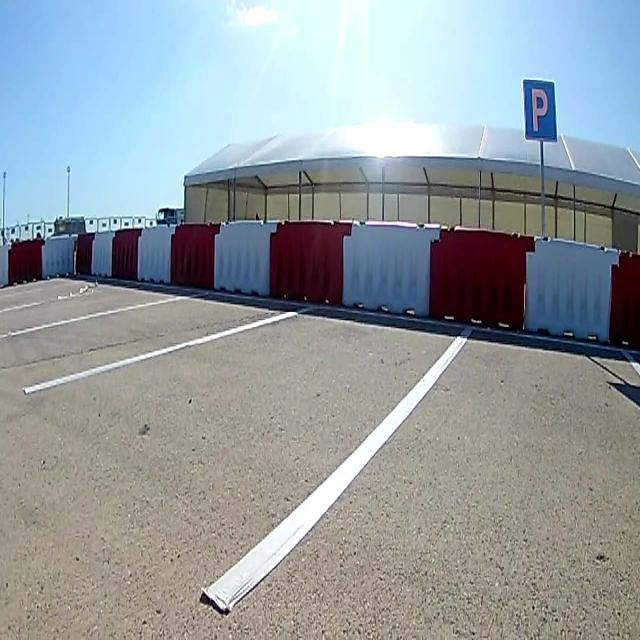park: (522, 78, 558, 143)
